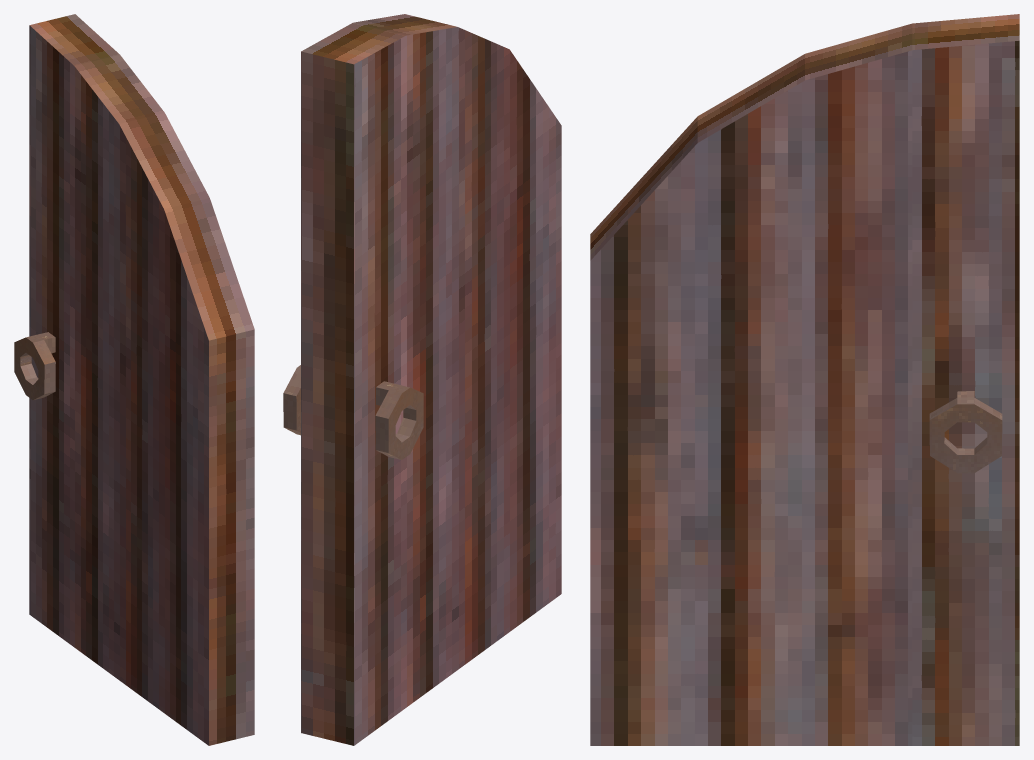
The model's file is door.glb.
3 views of the same model, side by side, from view 1: azimuth 30°, elevation 25°; view 2: azimuth 150°, elevation 25°; view 3: azimuth 270°, elevation 25° (orthographic). The views are drawn at different scales.
Parts seen in each view (by area): view 1: Cube; view 2: Cube; view 3: Cube.
Boxes of the visible parts, x1,y1,x2,y2 form: Cube: [14, 14, 254, 745]; Cube: [283, 14, 561, 745]; Cube: [590, 14, 1019, 745].
Bounding box in the file's own units: 0.9936 × 6.15 × 3.39.
Materials: 1 (1 with a texture image).
